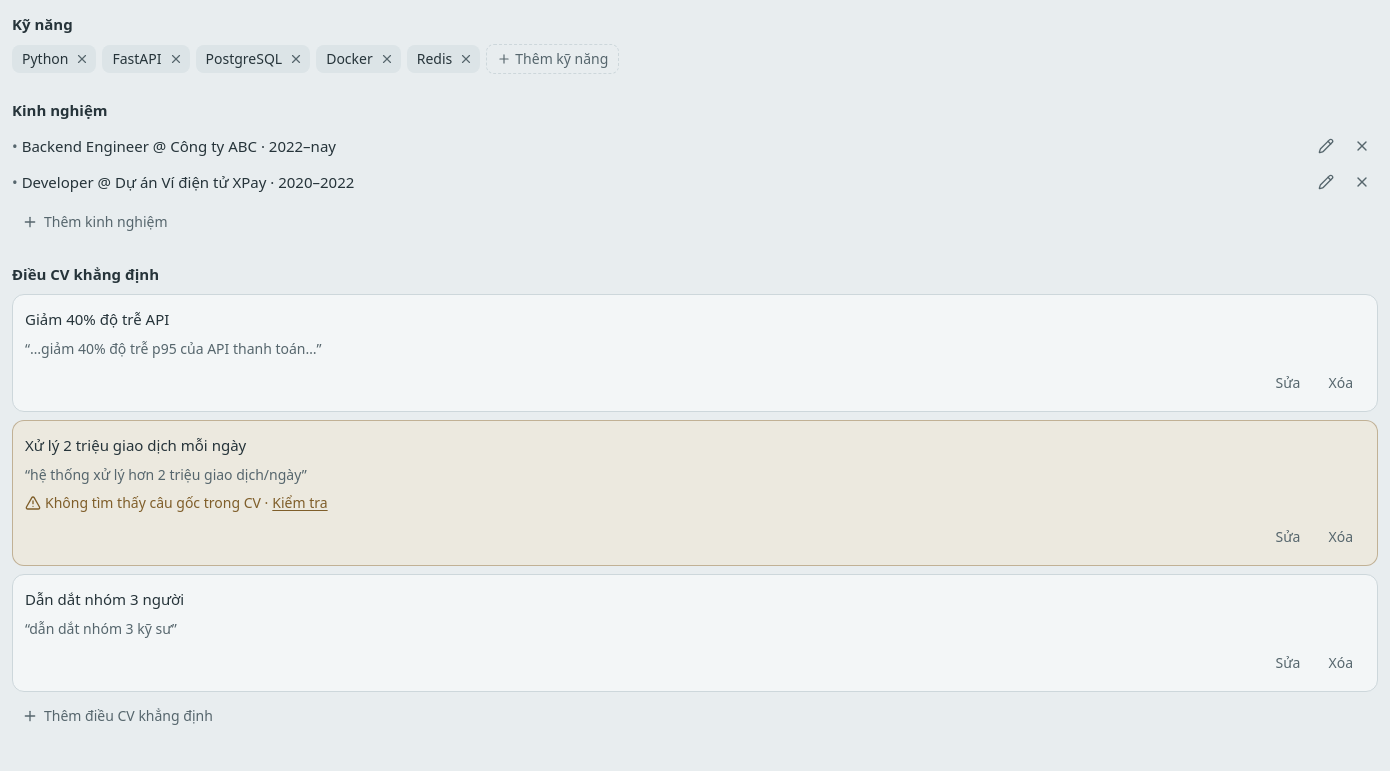
Test: ProfileEditor › edits an experience in place
Click the button named "Sửa Backend Engineer @ Công ty ABC": point(1326, 146) [1310,130,1342,162]
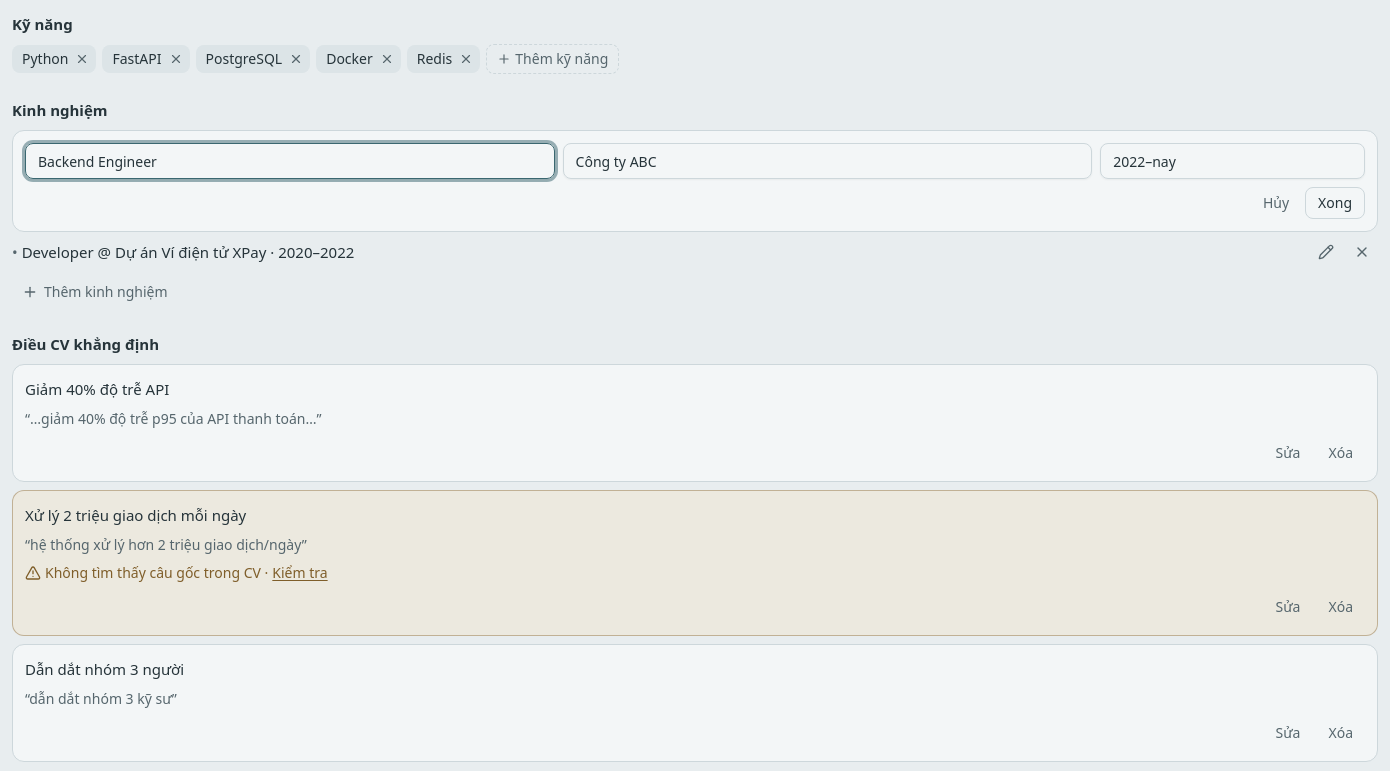
In the field named "Thời gian": point(1233, 161) [1100,143,1365,179], type "2021–nay"
Then press Enter
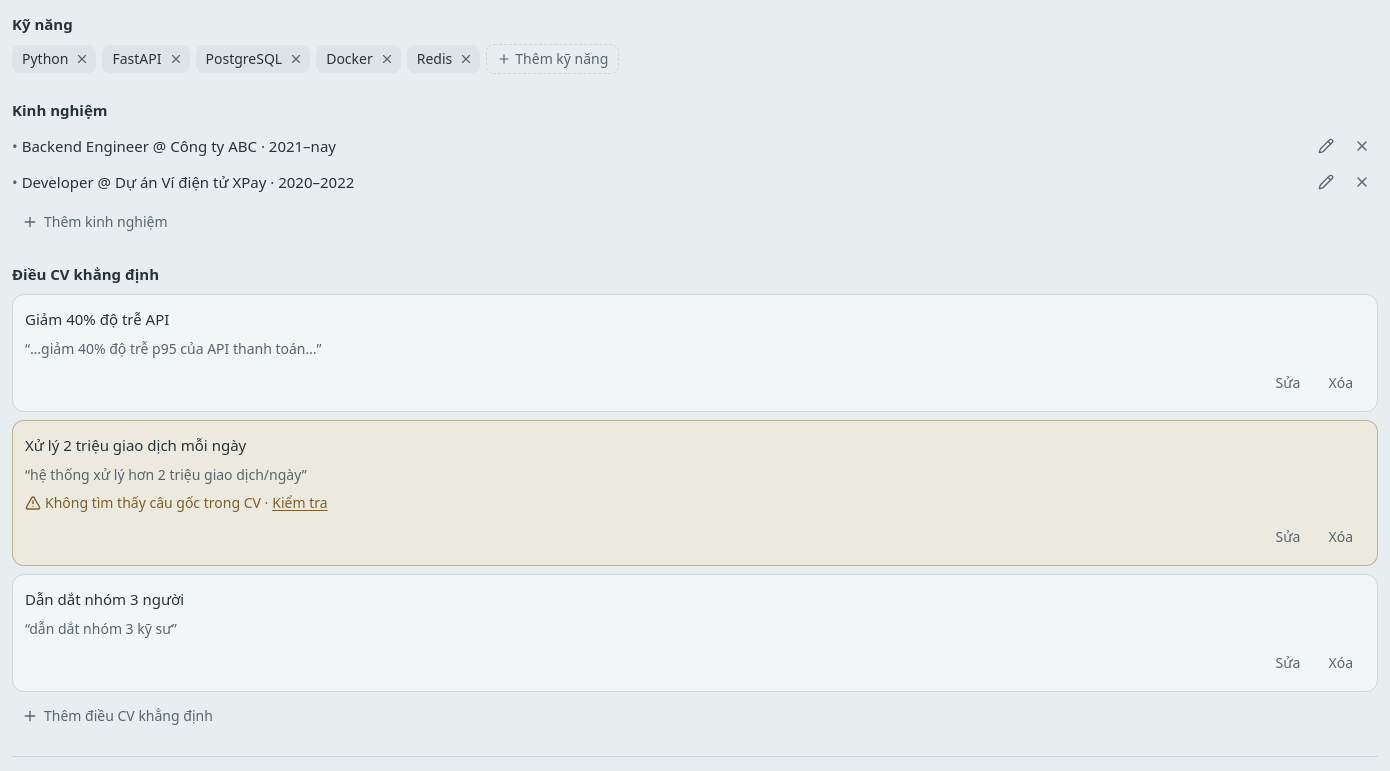
Now the text "Backend Engineer @ Công ty ABC · 2021–nay" is shown, box [22,136,336,156]
